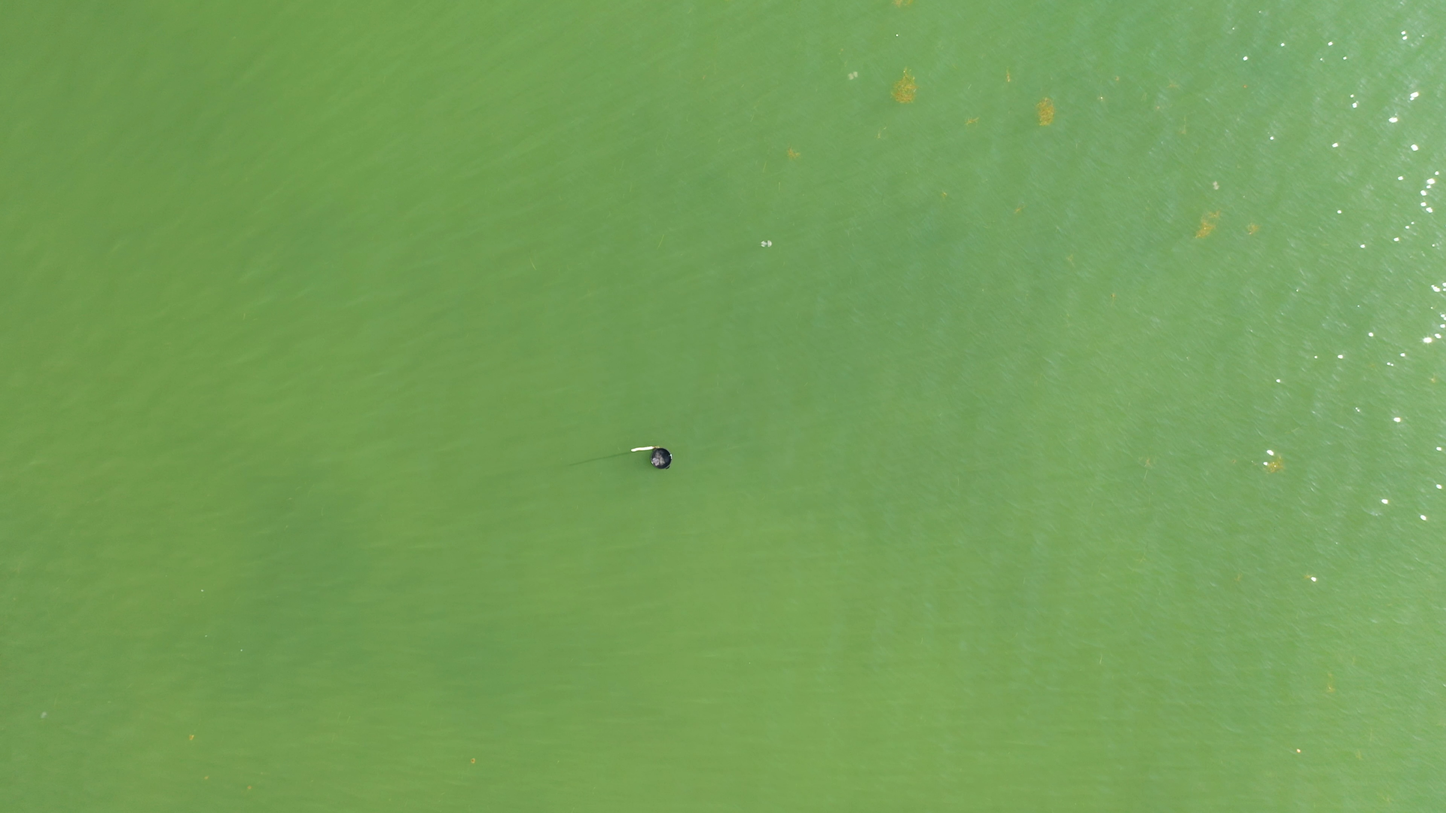meduse: (761, 240, 773, 247), (1213, 180, 1221, 190), (850, 71, 858, 81), (40, 712, 47, 719)
